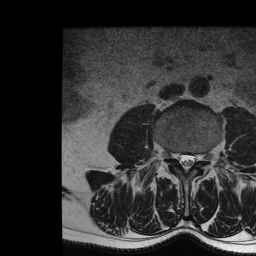CCS_normal: (182, 146, 189, 178)
LFS_normal: (197, 144, 205, 168)
LLS_normal: (190, 145, 197, 171)
RFS_normal: (166, 142, 175, 165)
RLS_normal: (175, 144, 182, 170)
